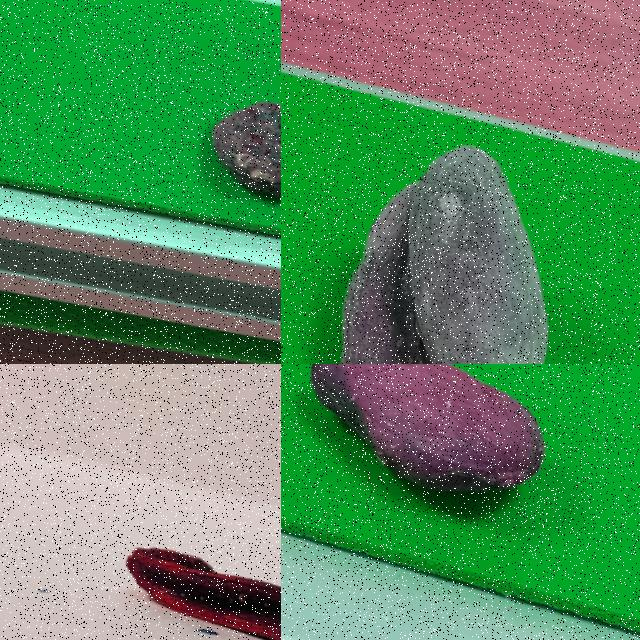Agglomerated_cocoabeans: (281, 67, 639, 363)
Fine_cocoabeans: (281, 364, 638, 576)
Flat_cocoabeans: (116, 45, 280, 264), (61, 486, 280, 639)
